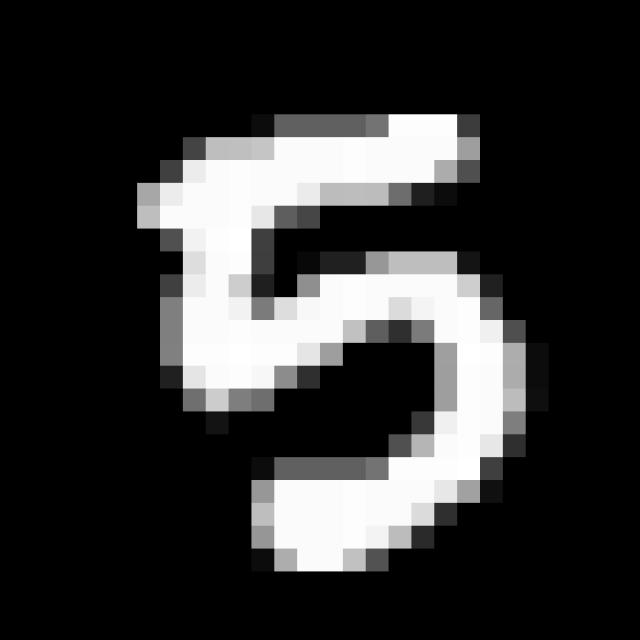five -5-: (130, 98, 546, 577)
